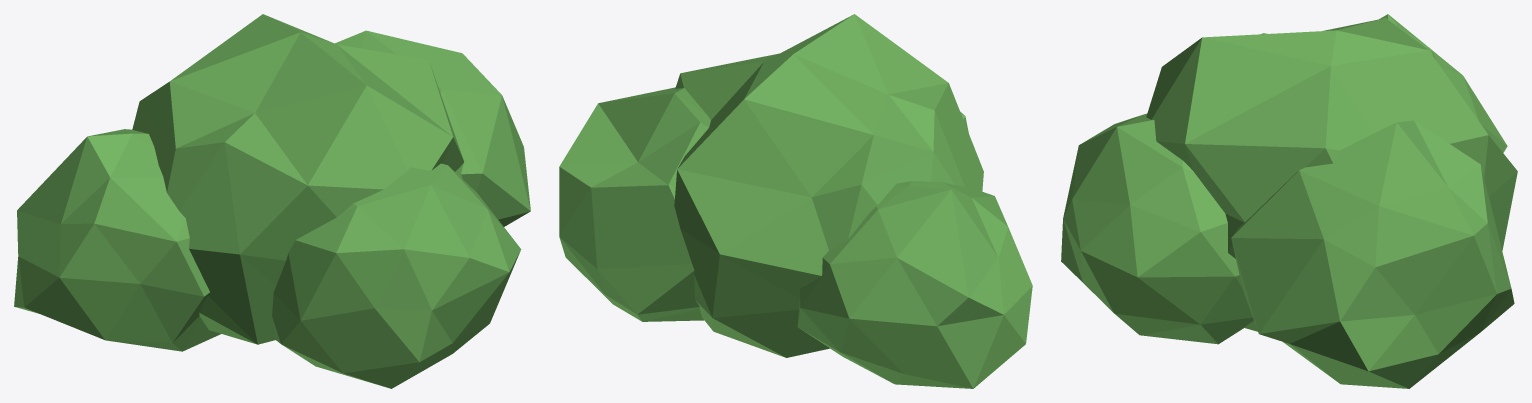
Rendered from Bush.fbx.
3 renders of one model, left to right at view 1: azimuth 30°, elevation 25°; view 2: azimuth 150°, elevation 25°; view 3: azimuth 270°, elevation 25°, orthographic. The views are drawn at different scales.
Visible parts, largest first — view 1: Bush_Leaves; view 2: Bush_Leaves; view 3: Bush_Leaves.
Part boxes in pixels (<box>): Bush_Leaves: <box>14,14,530,388</box>; Bush_Leaves: <box>559,14,1032,388</box>; Bush_Leaves: <box>1061,14,1517,388</box>.
Size of the model in its own units: 9.79 by 5.22 by 7.68.
